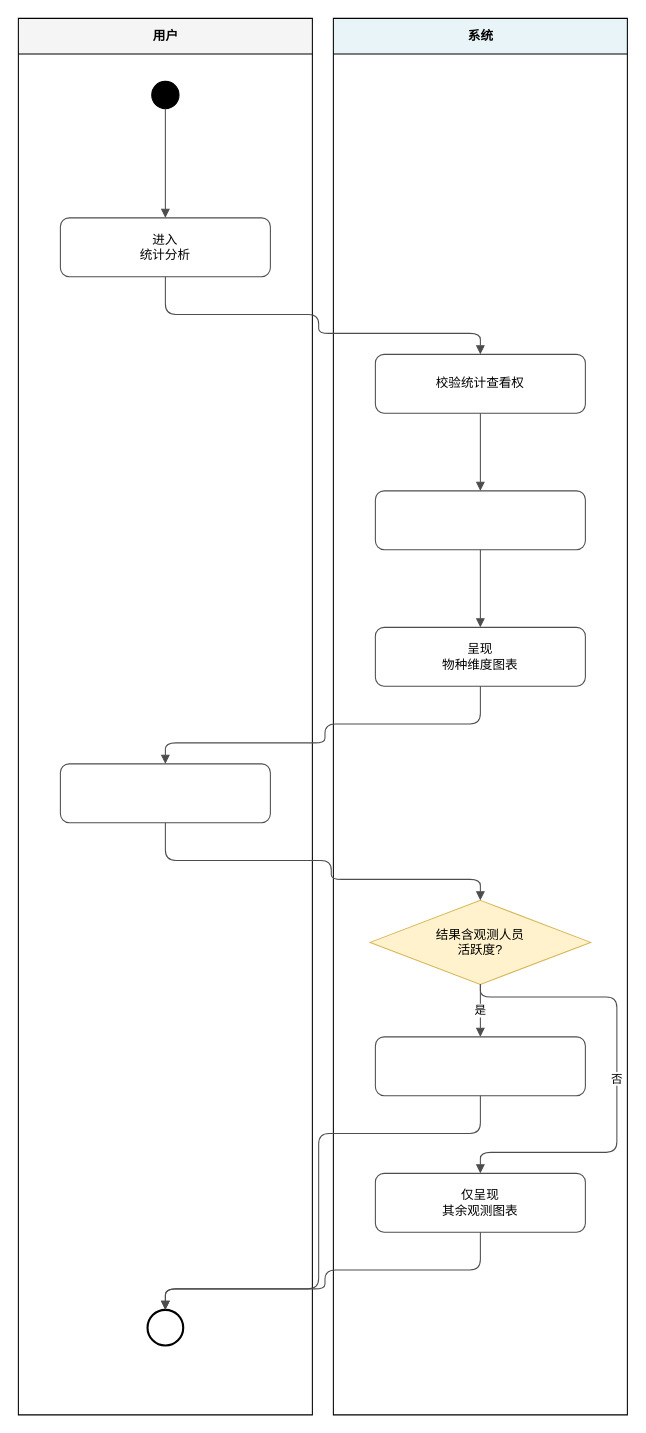
Image size: 646x1433. Some labels were removed from this diagram. The shapes that lost their labels are listed below. From the top down, each one's centre as x and y in pixels, then its label:
the point at 479,520: 汇总各维度统计
the point at 164,793: 切换到 观测维度
the point at 479,1066: 一并呈现 活跃度图表
